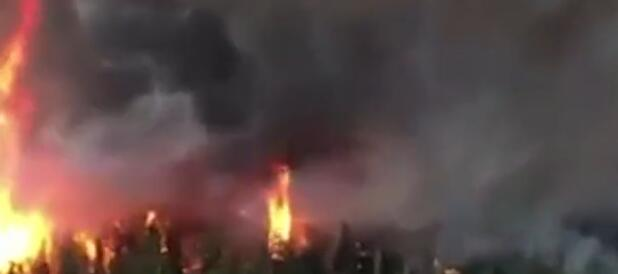fire: (0, 5, 111, 266), (254, 166, 300, 266)
yanwu: (45, 0, 618, 222)
